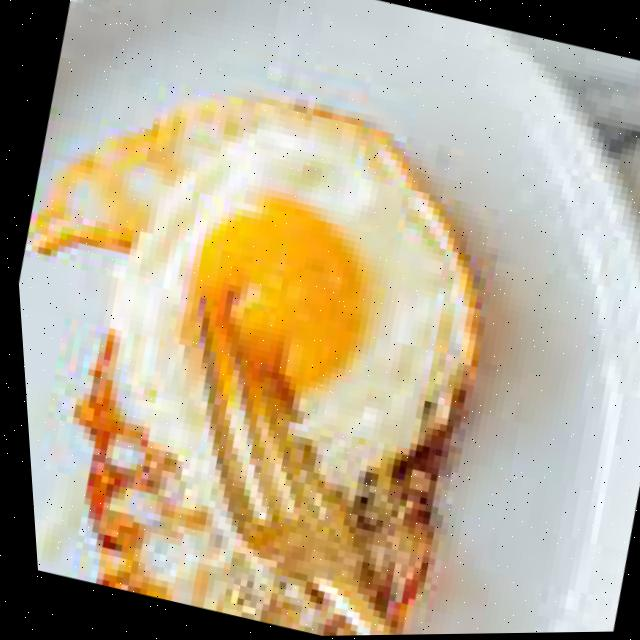Egg: (23, 96, 471, 637)
